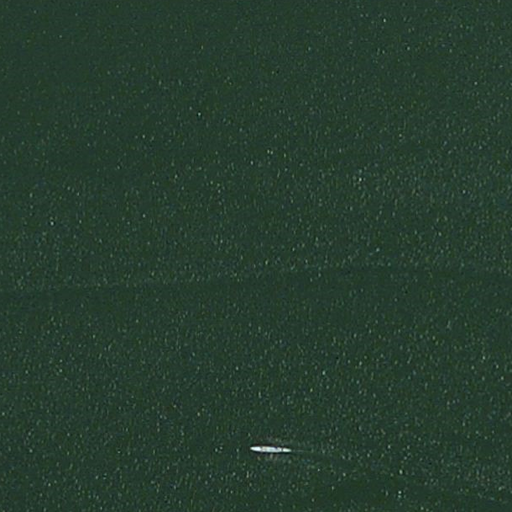ship: (246, 442, 295, 458)
